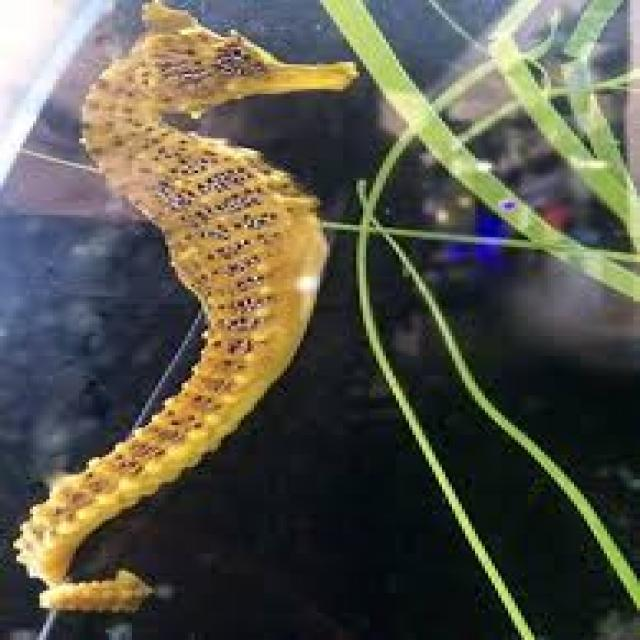SeaHorse: (13, 0, 356, 633)
